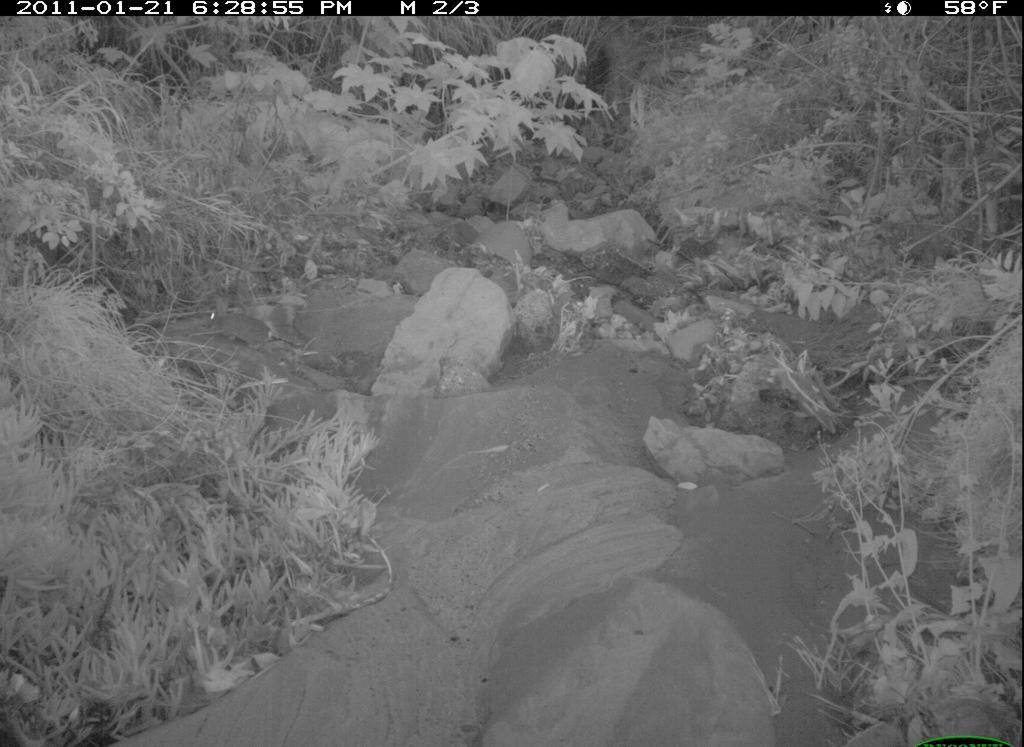rabbit: (209, 297, 277, 353)
